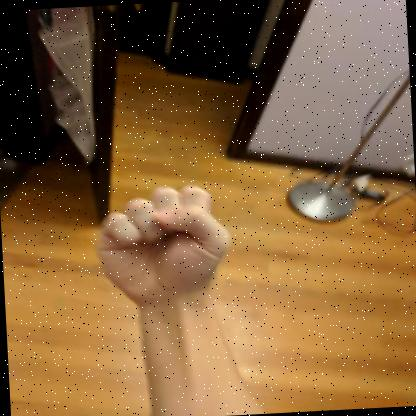S: (95, 184, 230, 309)
